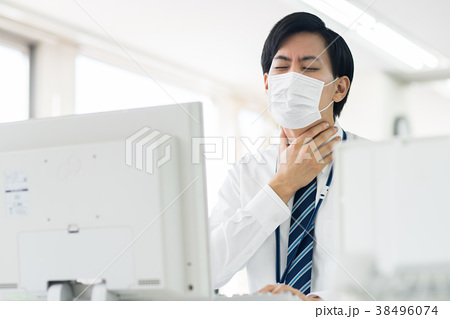mask: (263, 75, 328, 125)
